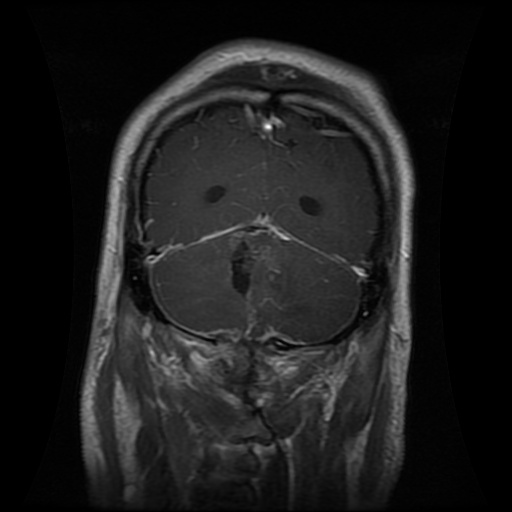glioma: (224, 223, 287, 305)
